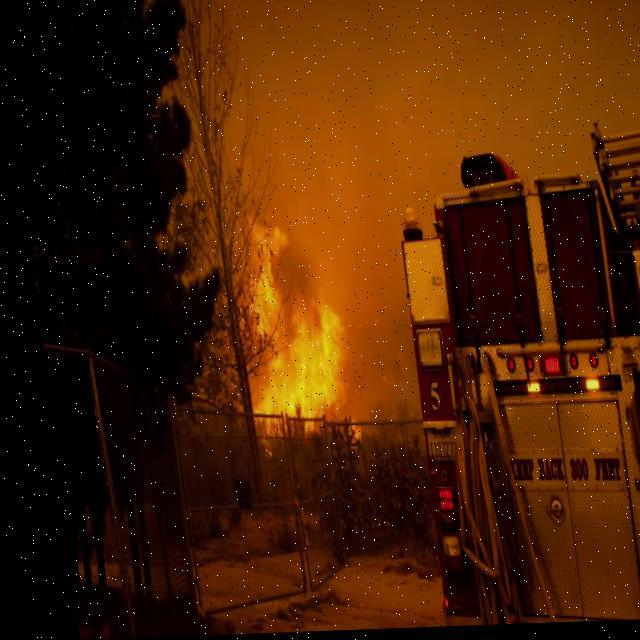Fire: (218, 201, 354, 462)
